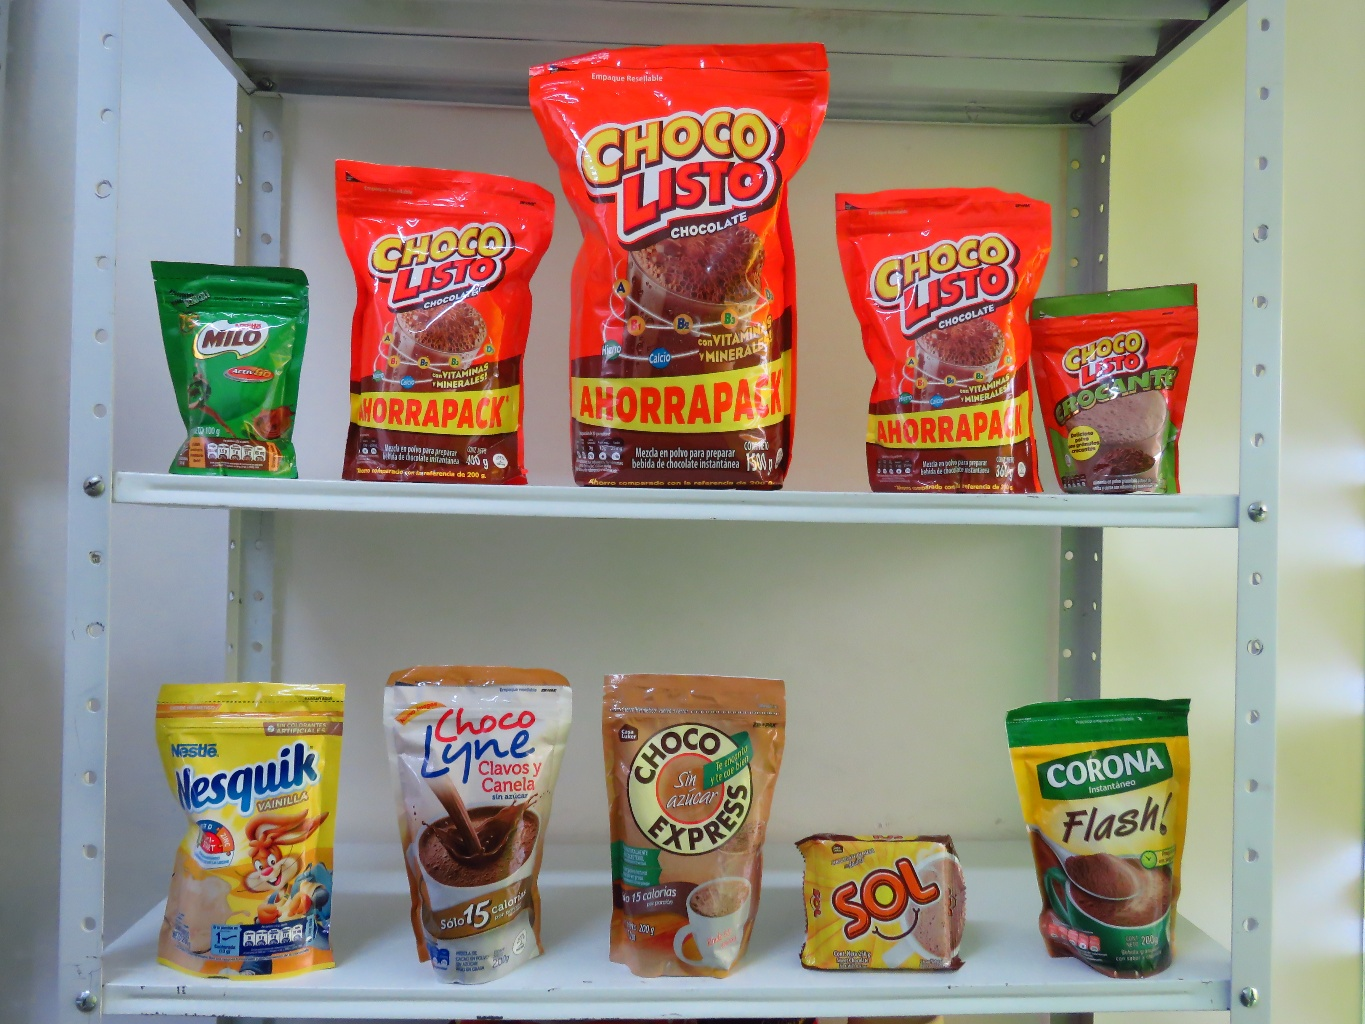COL0170102DYP10000: (1026, 283, 1206, 499)
COL0170103DYP1,500: (524, 37, 827, 490)
COL0170103DYP36000: (833, 189, 1055, 496)
COL0170103DYP40000: (331, 156, 558, 484)
COL0170203DYP10000: (143, 256, 314, 483)
COL0170306DYP20000: (152, 679, 345, 975)
